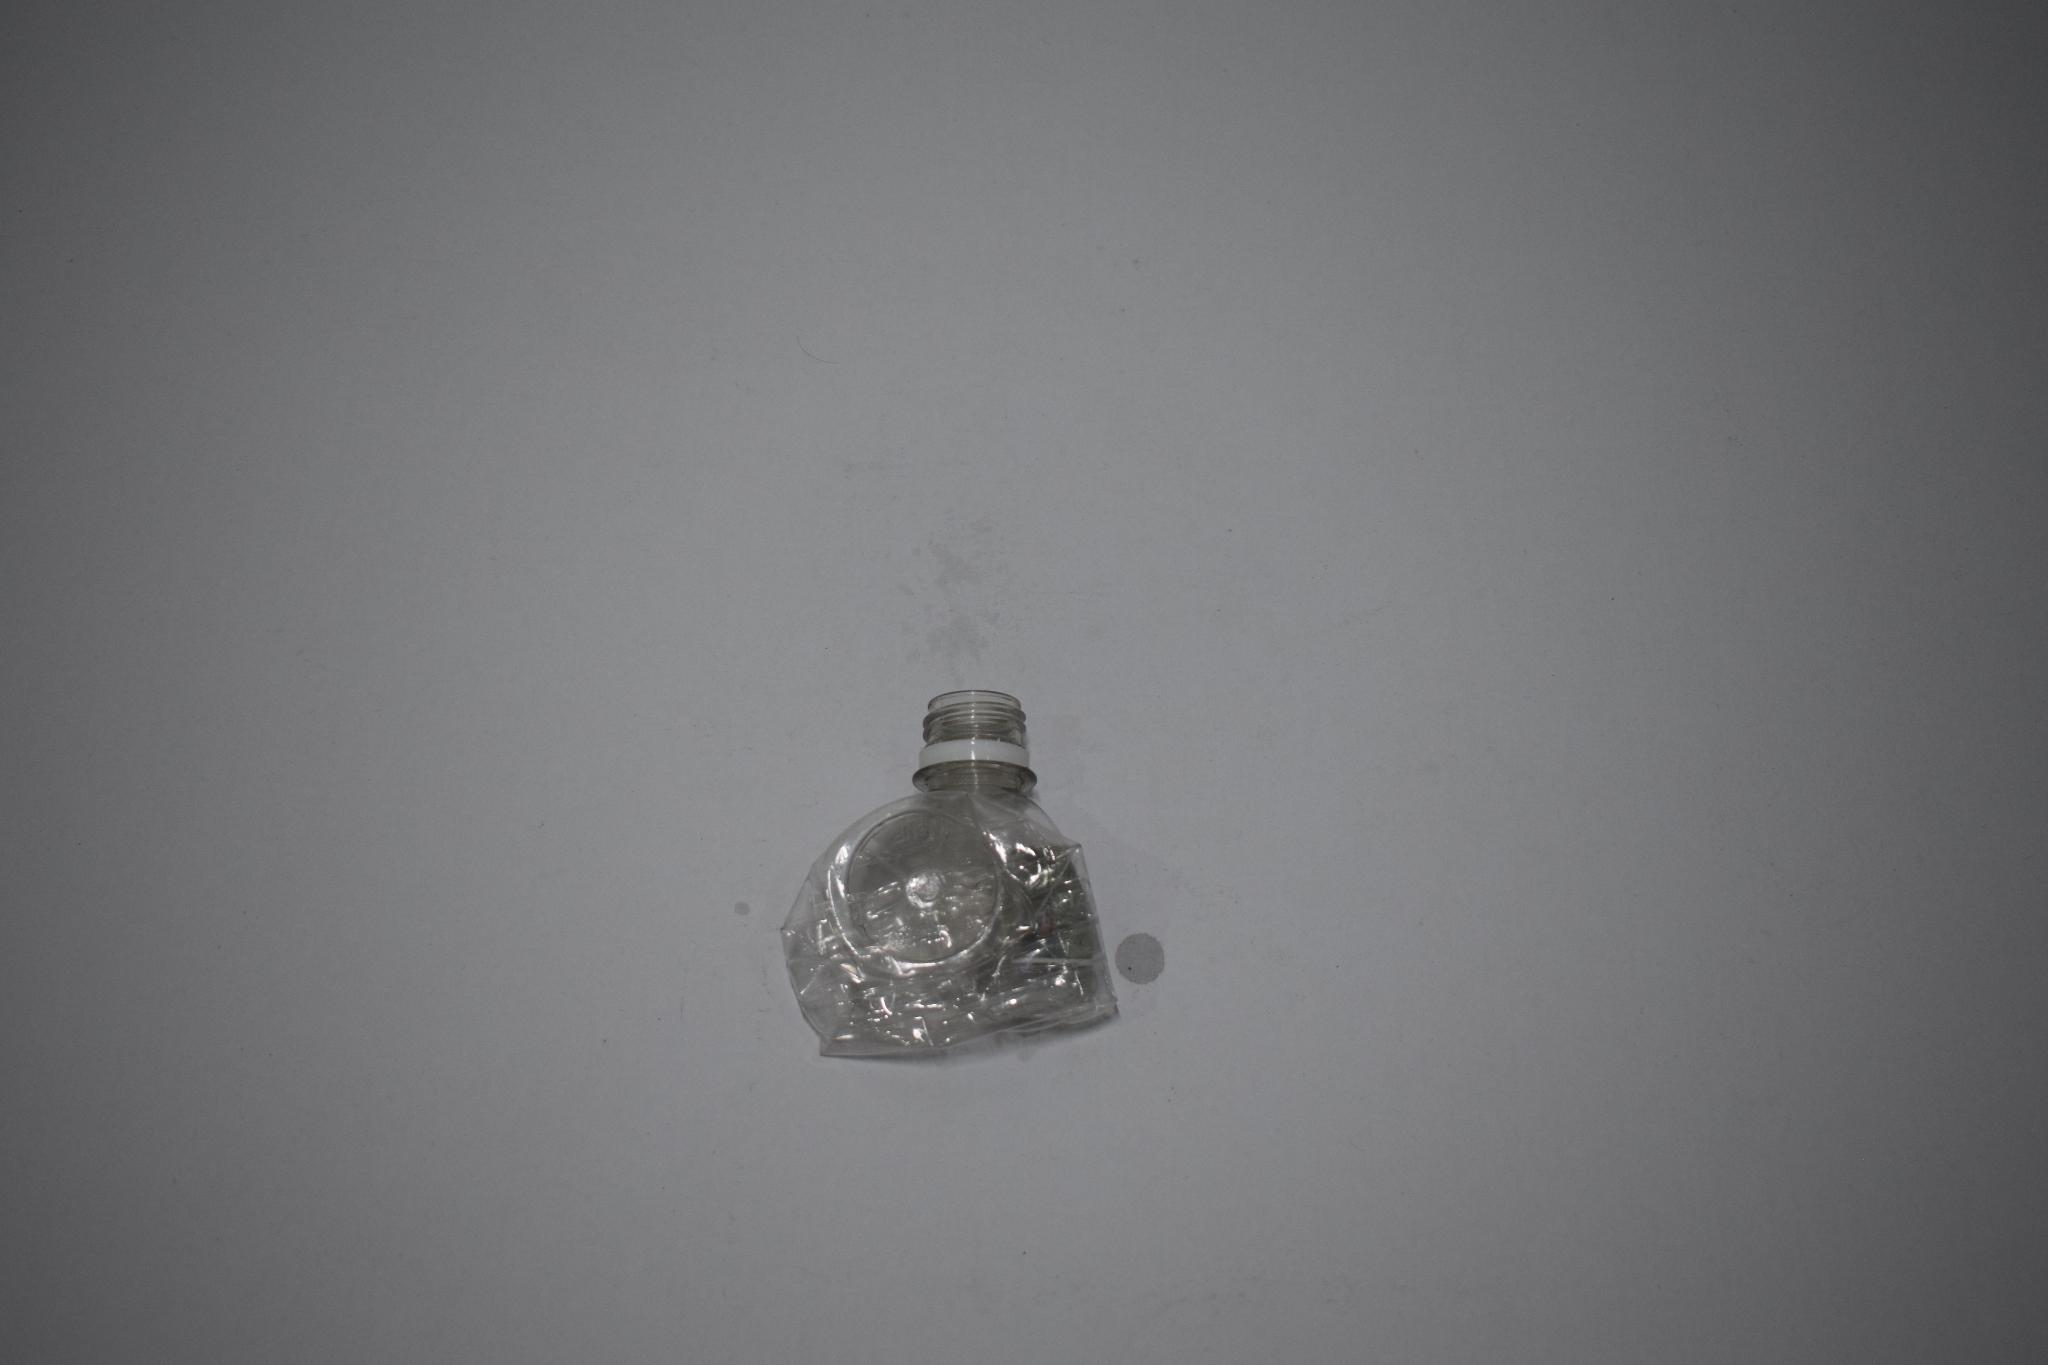bottle: (775, 681, 1127, 1071)
